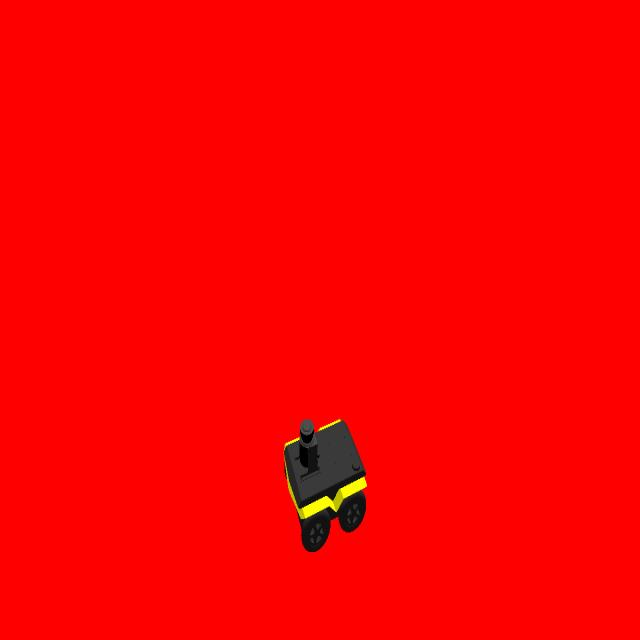jackal: (283, 410, 368, 553)
